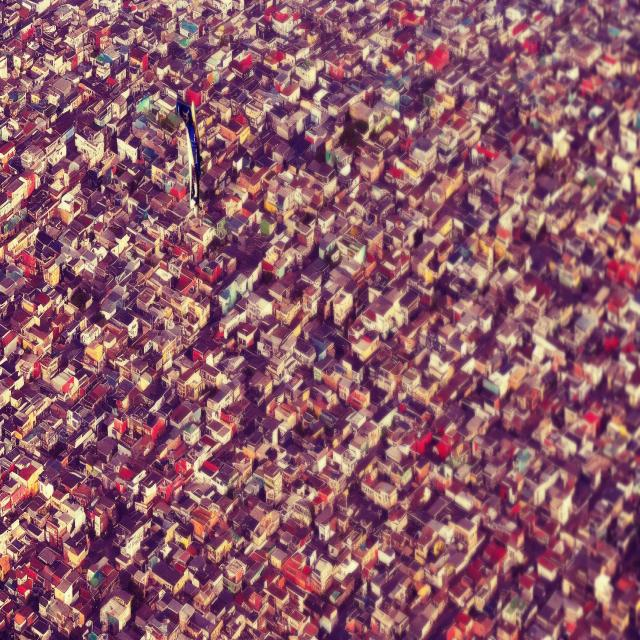airplane: (175, 100, 203, 218)
